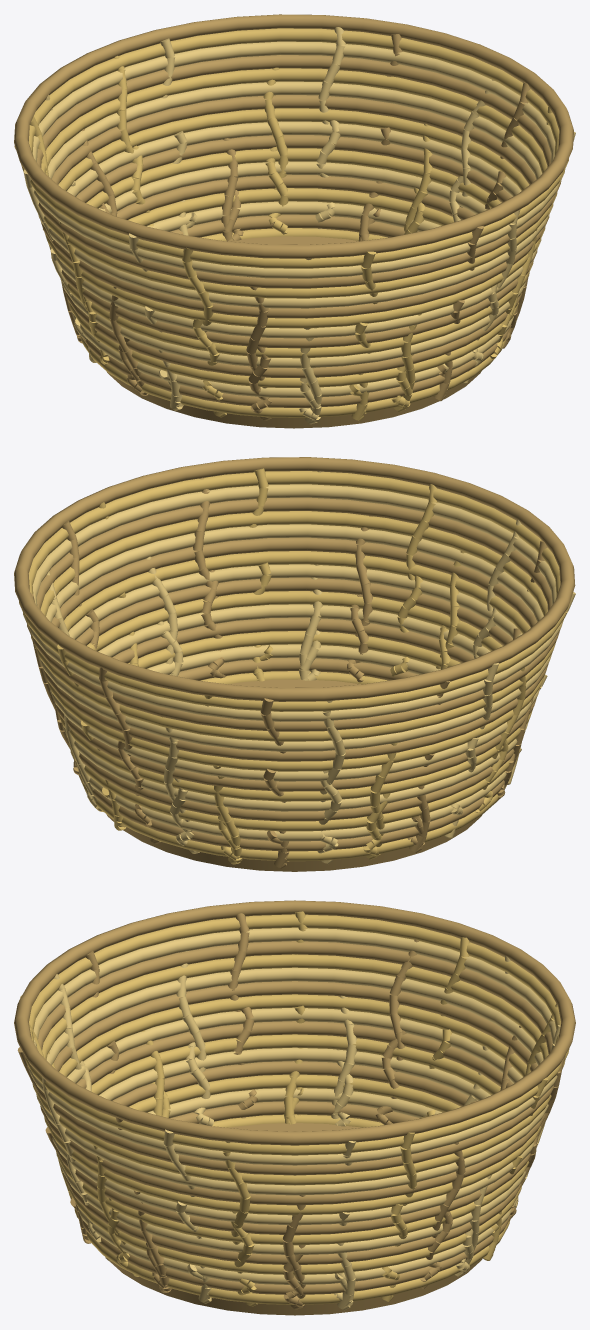
Rendered from scetis-cos.glb.
The picture shows the model from 3 angles, top to bottom: view 1: azimuth 30°, elevation 25°; view 2: azimuth 150°, elevation 25°; view 3: azimuth 270°, elevation 25°; orthographic projection.
Visible parts, largest first — view 1: done, half, start; view 2: done, half, start; view 3: done, half, start.
Part boxes in pixels (x1,y1,x2,y2): done: [14, 14, 575, 422]; half: [43, 108, 545, 422]; start: [68, 188, 518, 428]; done: [14, 457, 575, 867]; half: [47, 551, 547, 866]; start: [68, 631, 521, 871]; done: [14, 900, 575, 1309]; half: [44, 994, 541, 1308]; start: [68, 1074, 521, 1315].
Size of the model in its own units: 1.44 by 0.6095 by 1.44.
